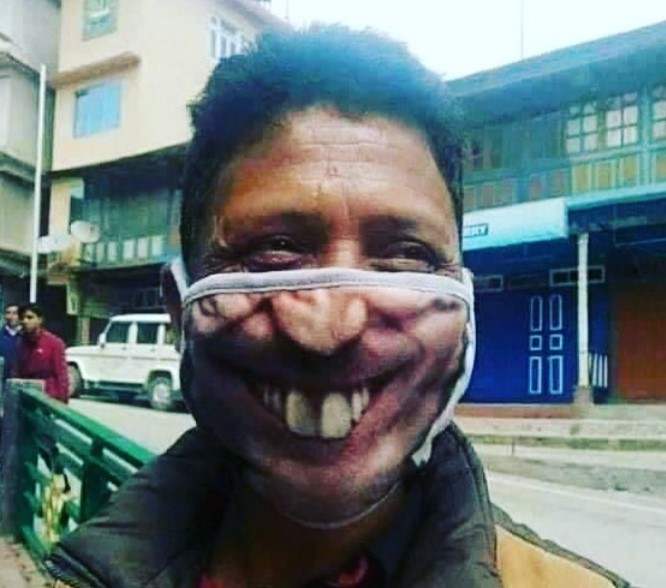face_with_mask: (169, 64, 477, 540)
